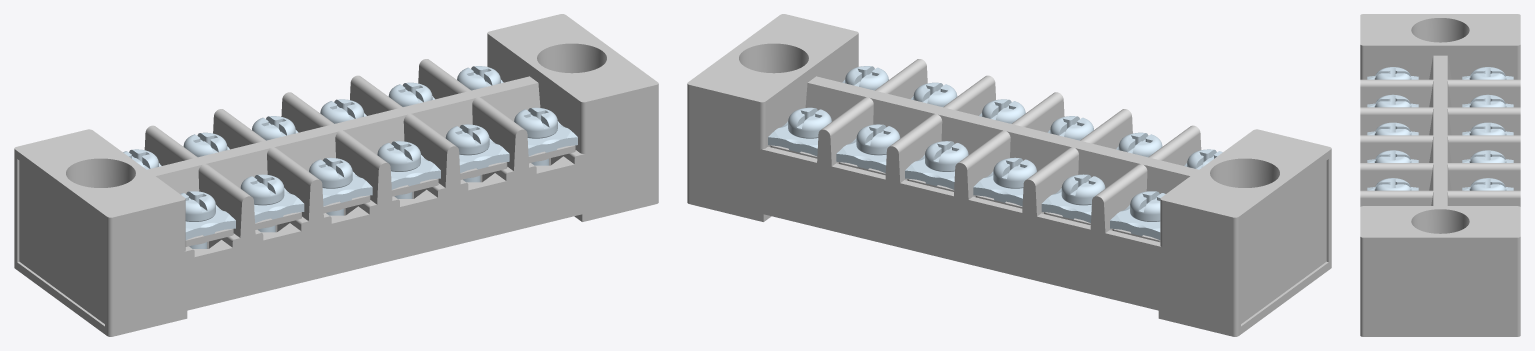
File: CHINT_TB-1506_no-cover.glb
The picture shows the model from 3 angles, left to right: view 1: azimuth 30°, elevation 25°; view 2: azimuth 150°, elevation 25°; view 3: azimuth 270°, elevation 25°; orthographic projection. The views are drawn at different scales.
Visible parts, largest first — view 1: TB-1506-DIZUO; view 2: TB-1506-DIZUO; view 3: TB-1506-DIZUO, COMPOUND_518, COMPOUND_634, COMPOUND_286, COMPOUND_402, COMPOUND_54, COMPOUND_170, COMPOUND_982, COMPOUND_1098, COMPOUND_750, COMPOUND_866.
Part boxes in pixels (box(x1,y1,x2,y2)): TB-1506-DIZUO: box(14, 14, 658, 336); TB-1506-DIZUO: box(687, 14, 1331, 336); TB-1506-DIZUO: box(1360, 14, 1520, 336); COMPOUND_518: box(1469, 129, 1506, 135); COMPOUND_634: box(1374, 129, 1411, 135); COMPOUND_286: box(1469, 101, 1506, 107); COMPOUND_402: box(1374, 101, 1411, 107); COMPOUND_54: box(1469, 73, 1506, 79); COMPOUND_170: box(1374, 73, 1411, 79); COMPOUND_982: box(1469, 184, 1506, 190); COMPOUND_1098: box(1374, 184, 1411, 190); COMPOUND_750: box(1469, 156, 1506, 162); COMPOUND_866: box(1374, 156, 1411, 162).
Size of the model in its own units: 0.0725 by 0.015 by 0.022.
